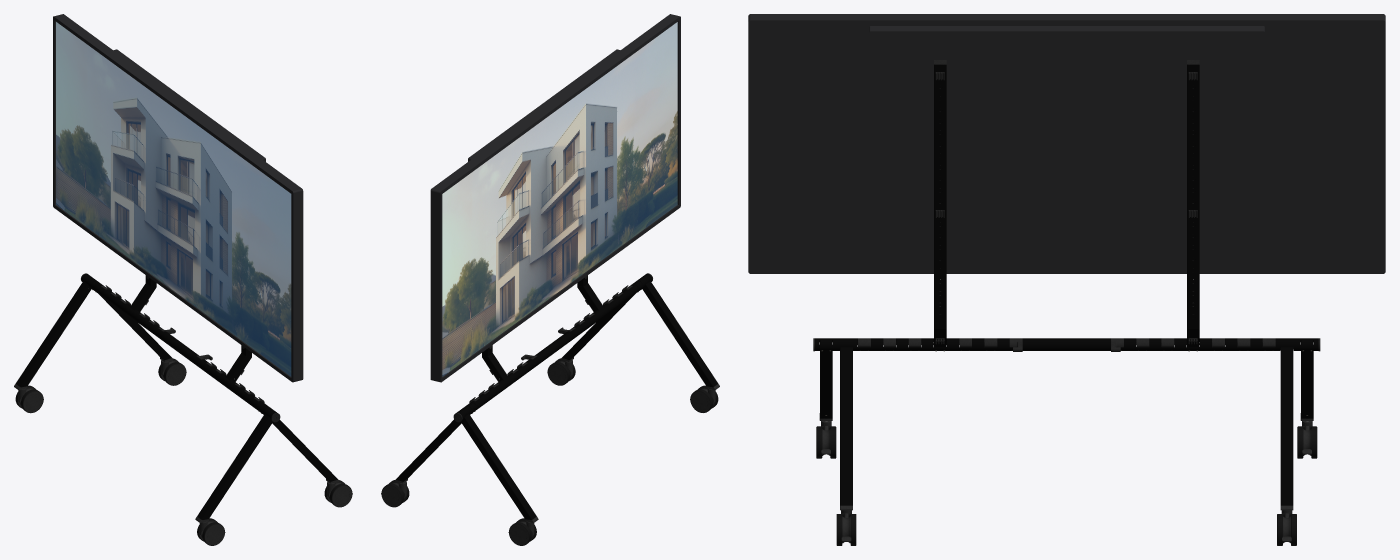
File: meeting_screen_fixed.glb
The picture shows the model from 3 angles, left to right: view 1: azimuth 30°, elevation 25°; view 2: azimuth 150°, elevation 25°; view 3: azimuth 270°, elevation 25°; orthographic projection. The views are drawn at different scales.
Parts seen in each view (by area): view 1: Display Screen_2, H1053 XL_1, Display Body_0; view 2: Display Screen_2, H1053 XL_1, Display Body_0; view 3: Display Body_0, H1053 XL_1.
Boxes of the visible parts, x1,y1,x2,y2 form: Display Screen_2: (56, 22, 291, 376); H1053 XL_1: (14, 273, 352, 545); Display Body_0: (53, 14, 303, 382); Display Screen_2: (442, 22, 677, 376); H1053 XL_1: (381, 273, 719, 545); Display Body_0: (430, 14, 680, 382); Display Body_0: (748, 14, 1385, 273); H1053 XL_1: (813, 60, 1320, 545).
Size of what is drawn, in the model's own units: 20.81 by 44.33 by 53.65.
4 materials, 2 textured.
